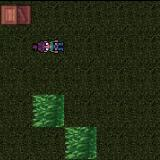Hide: (0, 0, 38, 32)
Slow: (32, 93, 64, 127), (64, 126, 97, 158)
Victim: (30, 32, 66, 59)
